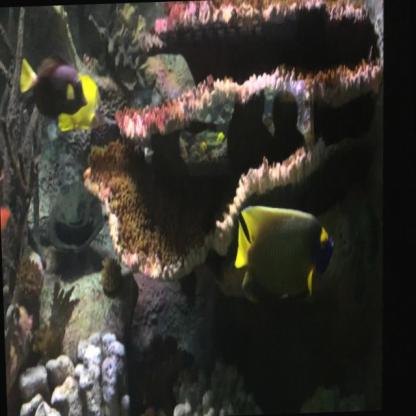fish: (231, 199, 338, 307), (18, 51, 98, 127), (56, 71, 107, 131), (216, 131, 224, 145), (200, 140, 207, 151)
